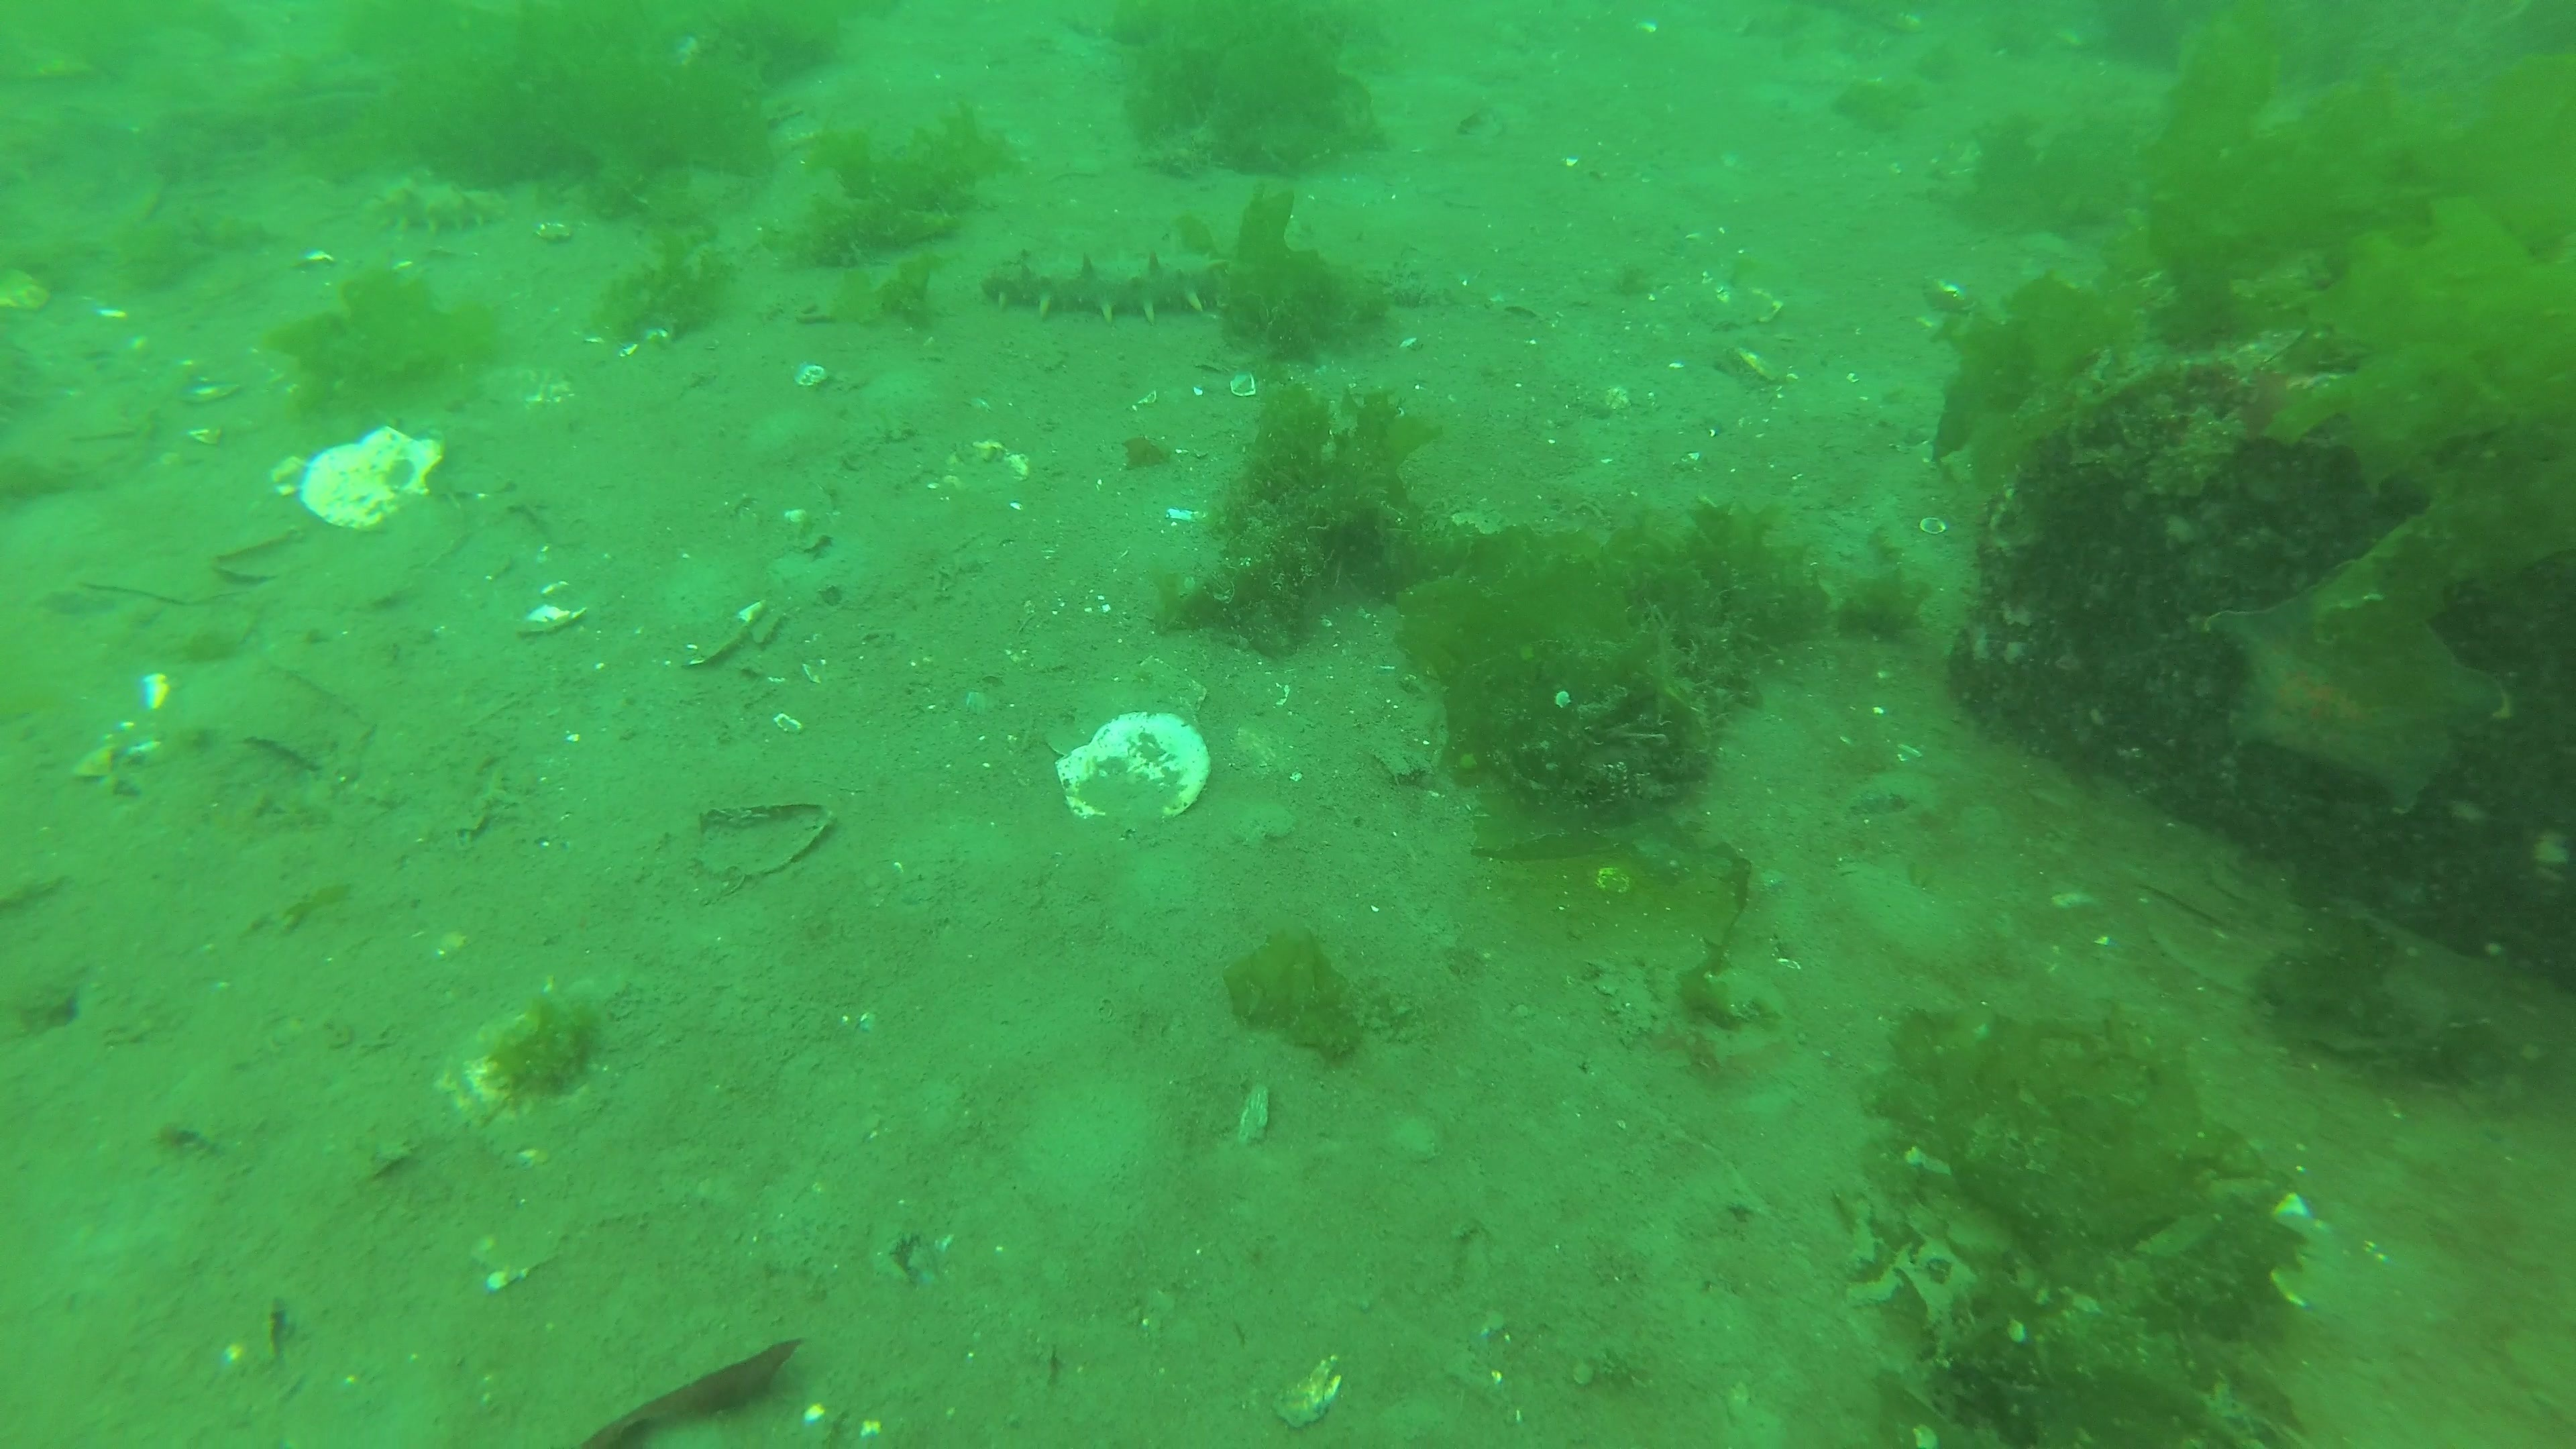holothurian: (982, 244, 1226, 324), (363, 179, 517, 234), (0, 92, 90, 180)
scallop: (1053, 711, 1212, 826), (297, 426, 446, 534)
starfish: (2206, 557, 2518, 821)
